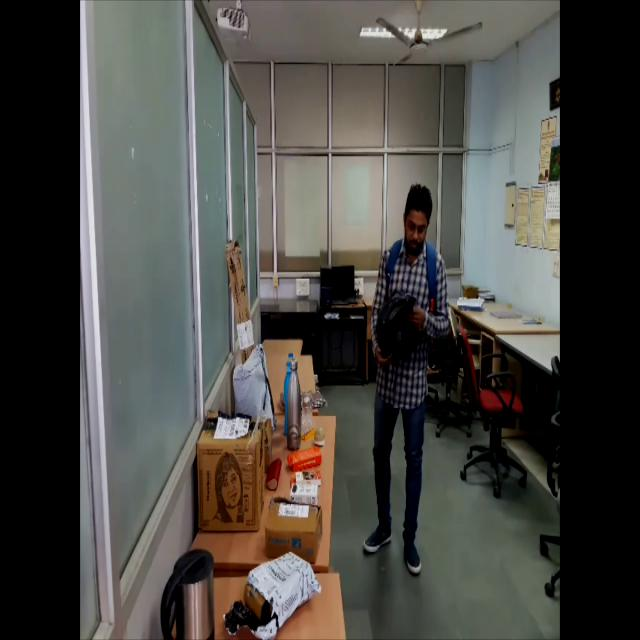normal: (362, 178, 458, 592)
